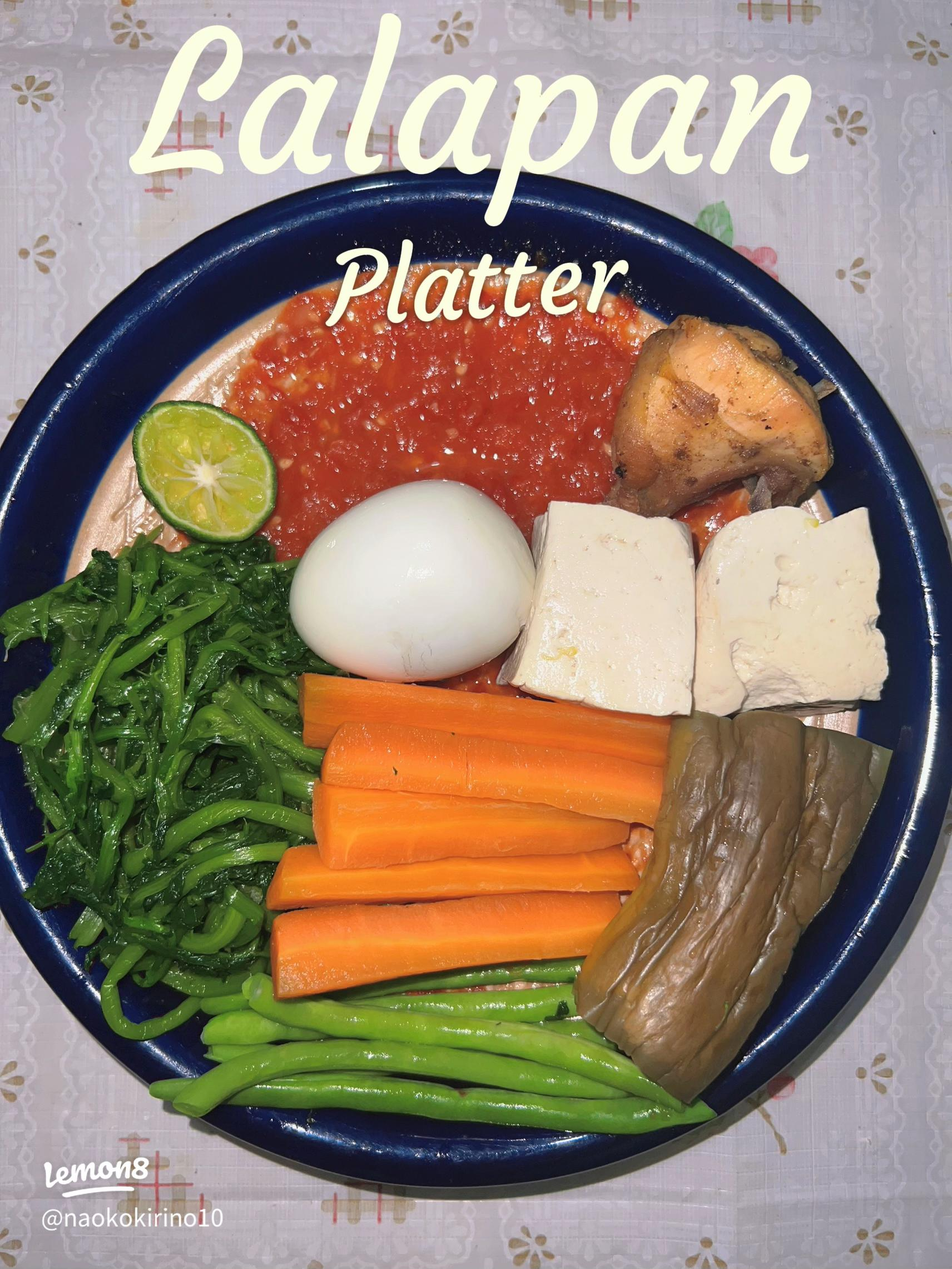buah_sayur_lainnya: (64, 611, 270, 916), (297, 1009, 565, 1099), (690, 736, 808, 920)
buah_sayur_vitA: (338, 701, 567, 951), (304, 346, 577, 463)
daging: (659, 346, 752, 453)
kacang_legume: (723, 543, 857, 676), (564, 526, 659, 684)
telur: (341, 520, 502, 648)
